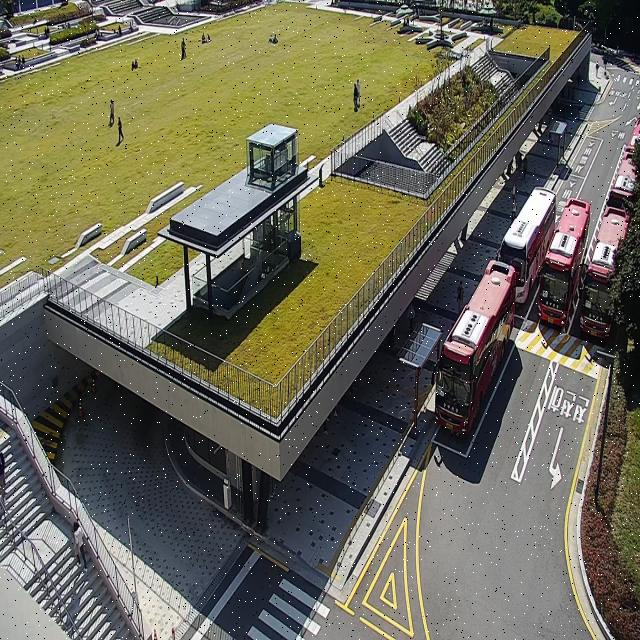queue: (412, 326, 442, 436)
